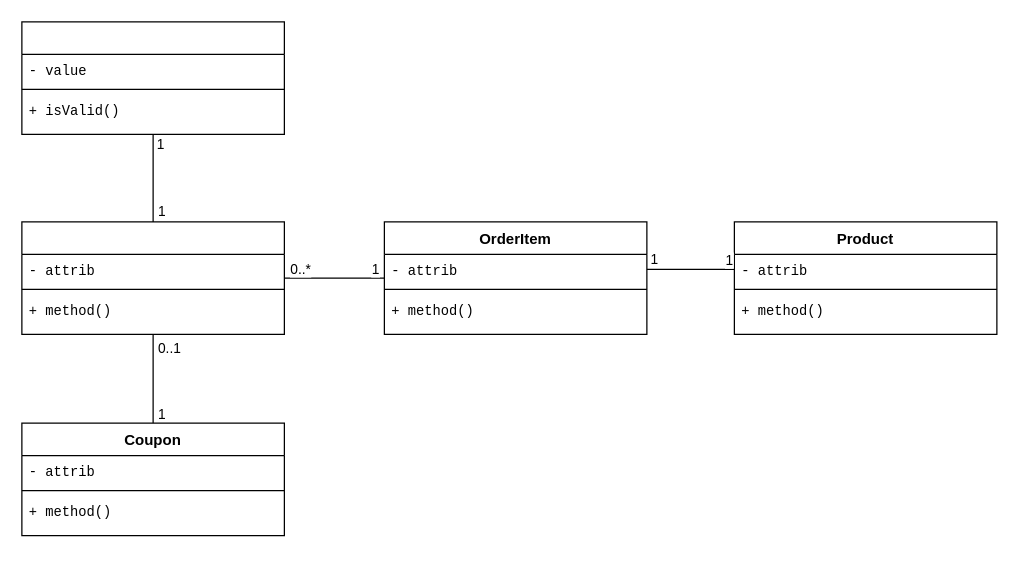
Some shapes in this 1019 by 561 pixel diagram are drawn without their labels. The box of each missing label's shape, as (x1, y1, x2, y2) in pixels:
CPF: (21, 21, 284, 134)
Order: (21, 221, 284, 334)
